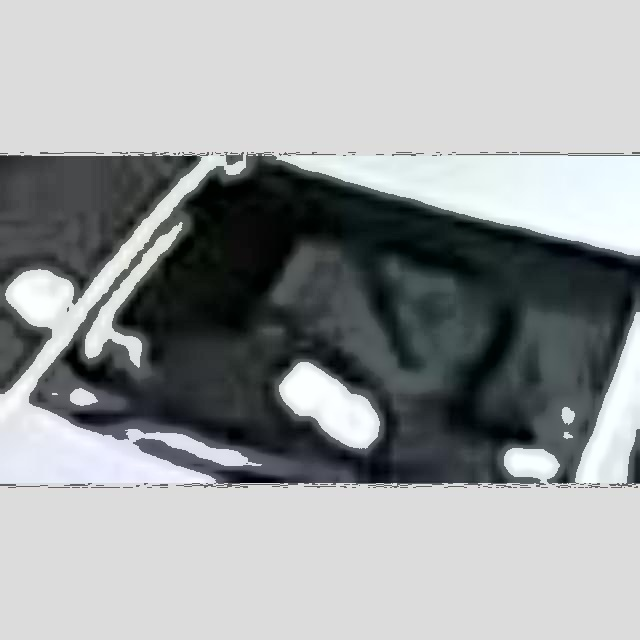pakai: (270, 227, 469, 391)
